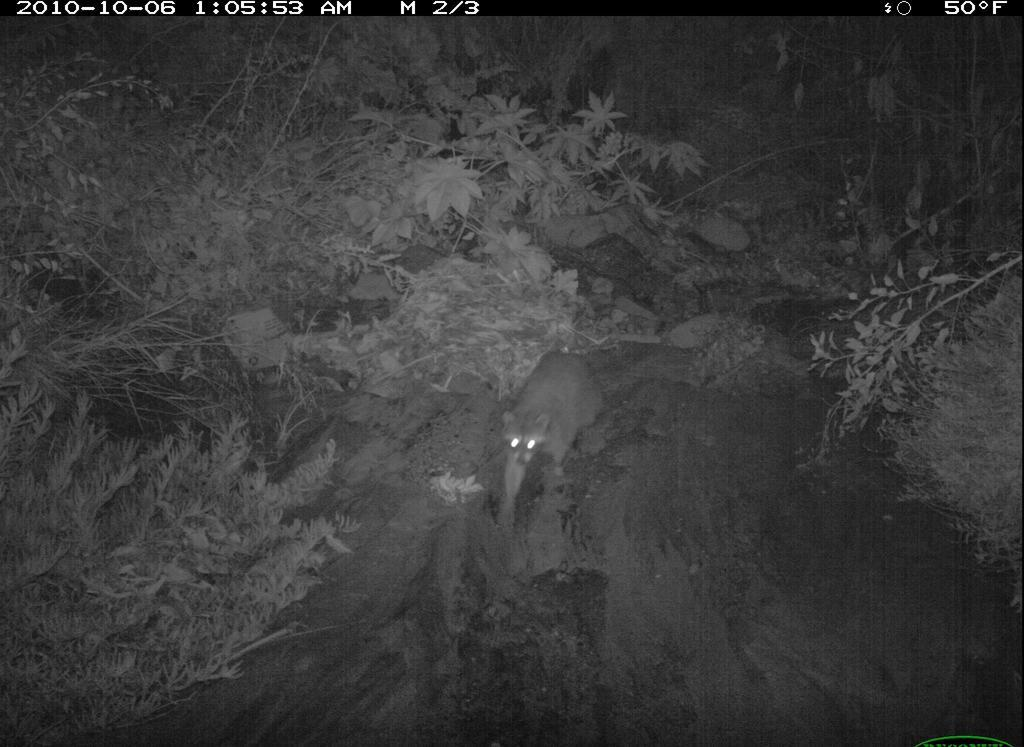raccoon: (470, 345, 619, 534)
